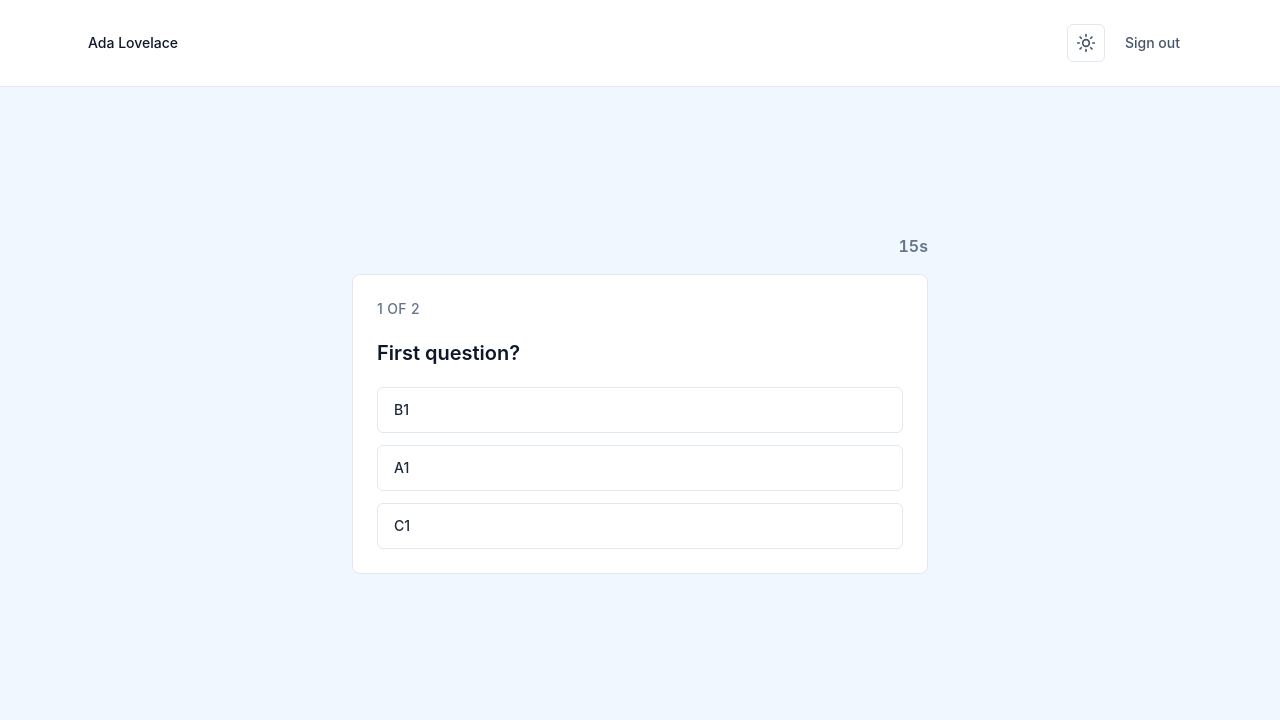
it: QuizPlay › should_advance_to_next_question_when_option_clicked
The image size is (1280, 720).
Click the button "A1" at (402, 467), box [377,444,903,490]
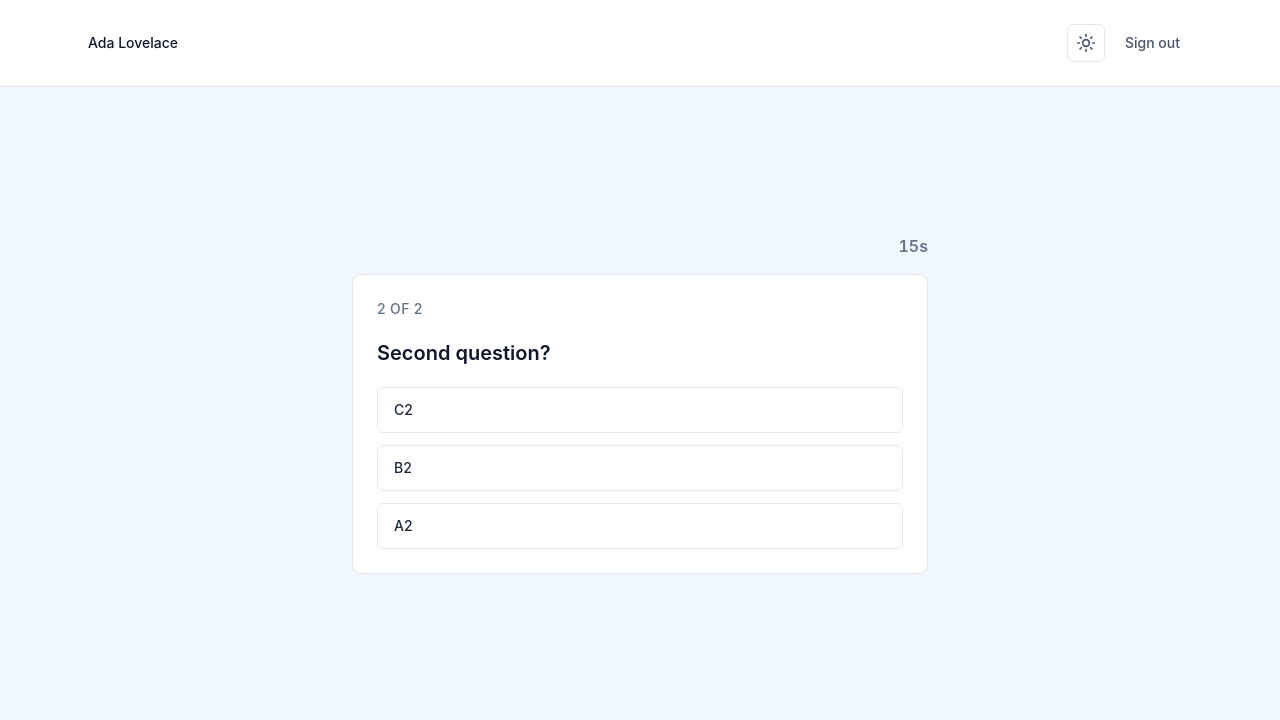
Expected: the heading "Second question?" is shown, [377,340,550,364]
Expected: the text "2 of 2" is shown, [377,300,423,316]
Expected: the heading "First question?" is gone
